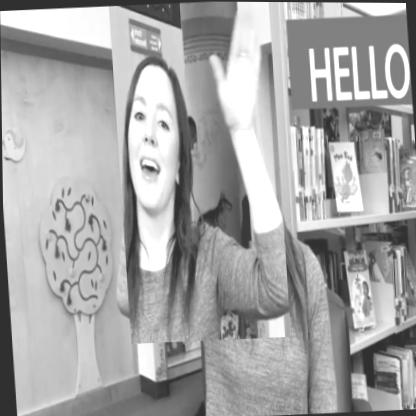Hello: (108, 1, 290, 344)
